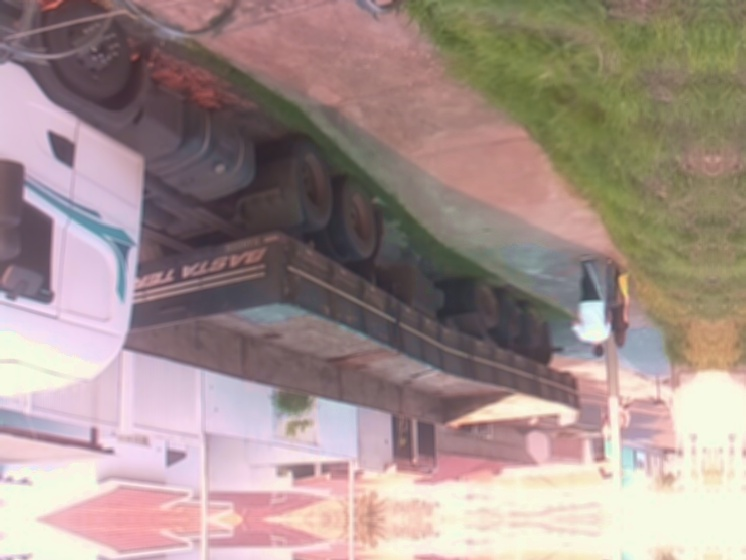person: (568, 255, 612, 357), (605, 257, 631, 349), (621, 393, 636, 431), (555, 408, 580, 430), (599, 403, 611, 441)
